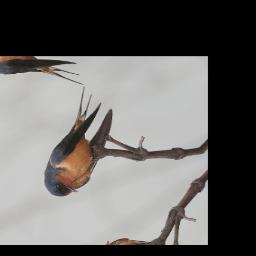Swallow: (6, 82, 144, 204)
